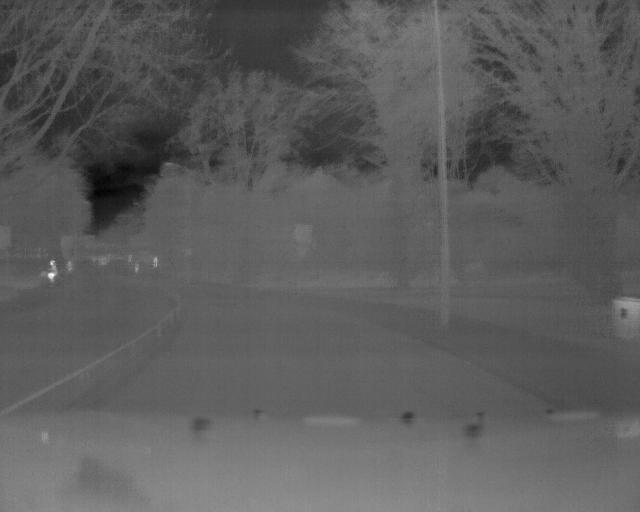person: (45, 255, 59, 285)
